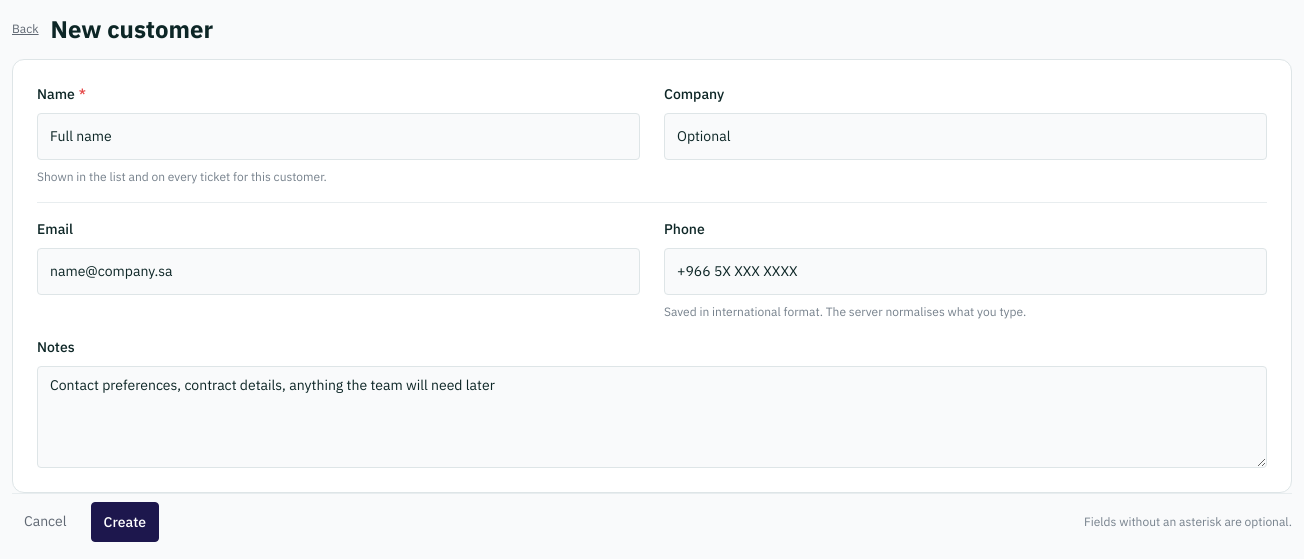
Test: AC-7 — a 400 renders the server’s own message, read as a string › attaches each message to the field the server named
Type "Noura Al-Salem" into the field labelled "Name" at (338, 136), box x1=37 y1=113 x2=640 y2=160
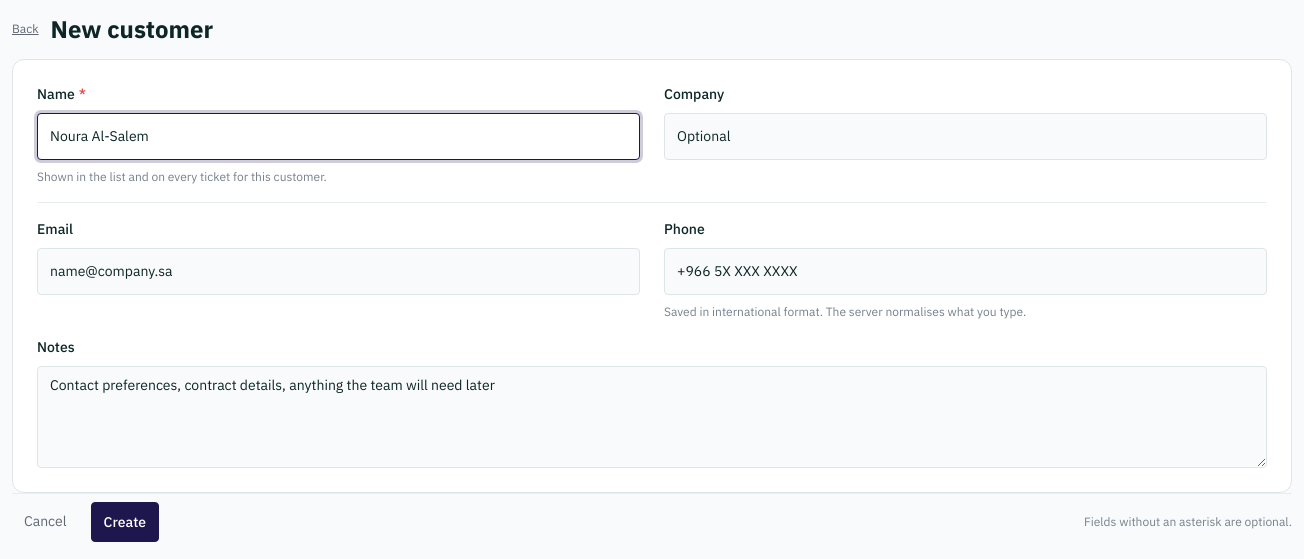
Type "noura@example.com" into the field labelled "Email" at (338, 271), box x1=37 y1=248 x2=640 y2=295
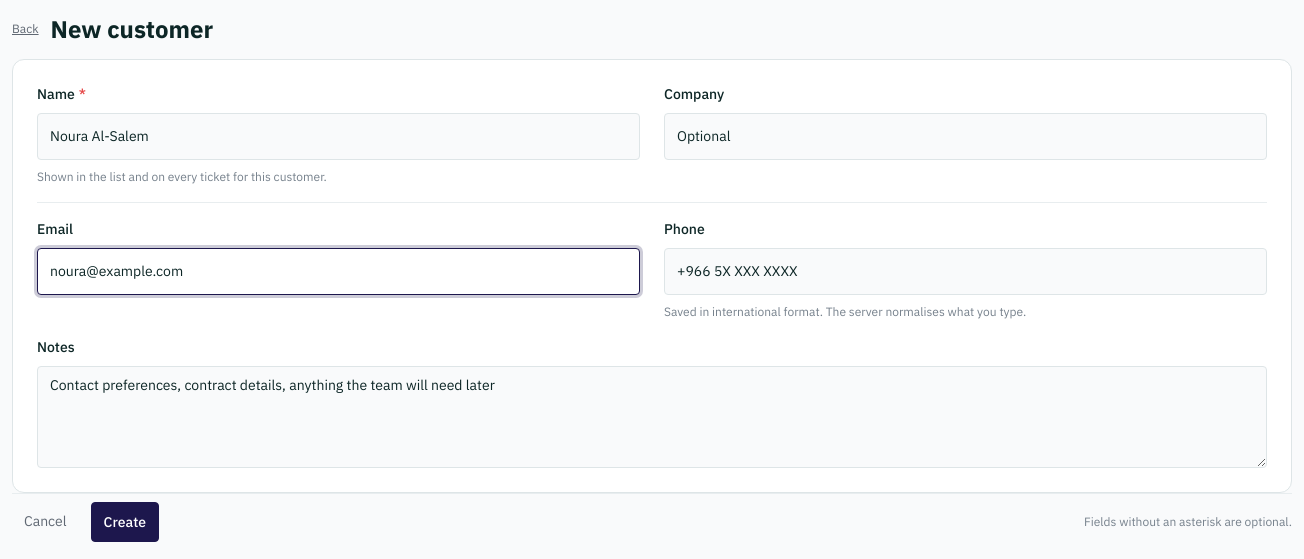
Click the button "Create" at (125, 522), box x1=91 y1=502 x2=159 y2=542
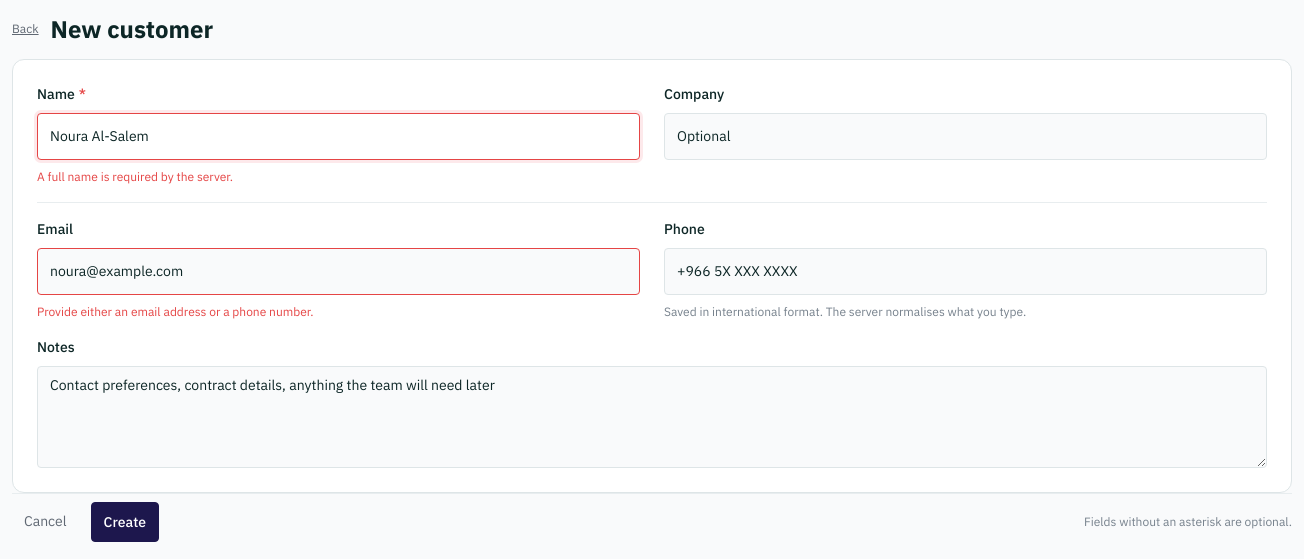
Check: the text "A full name is required by the server." is shown, box x1=37 y1=169 x2=233 y2=184
Check: the text "Provide either an email address or a phone number." is shown, box x1=37 y1=304 x2=314 y2=319
